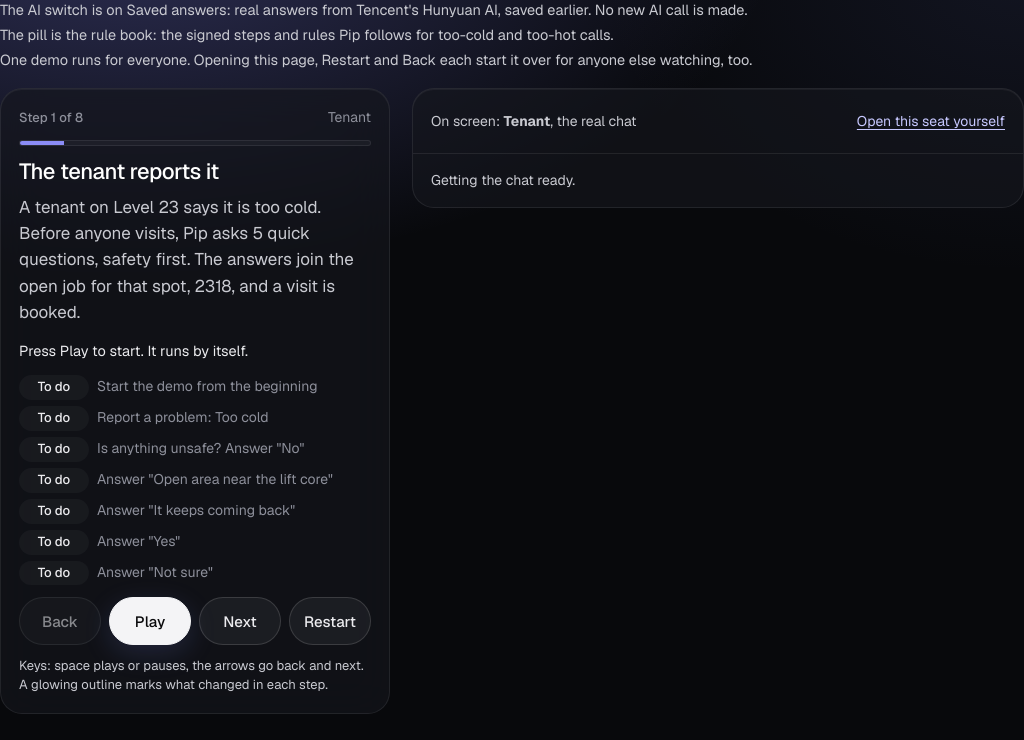
Test: D2: Story mode plays the real app by itself › marks what changed in the step with an outline
Click the button "Next". click: (240, 621)
box: [199, 597, 281, 645]
(page scrolled)
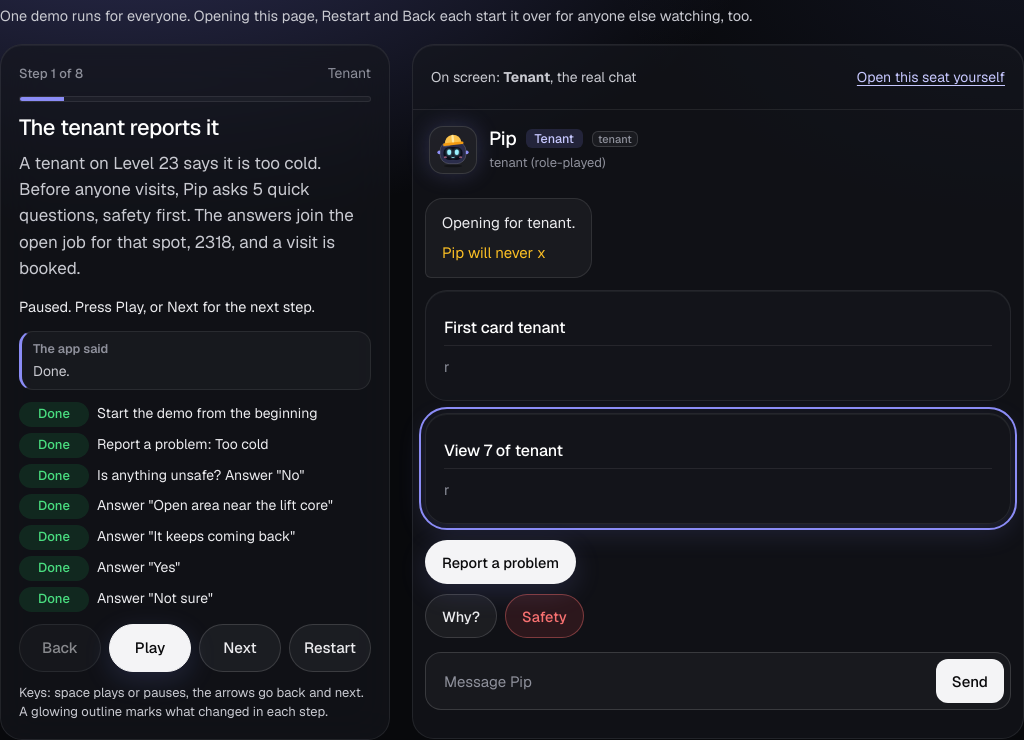
Check: the number of elements with class "story-focus" is 1, box [425, 413, 1011, 524]
